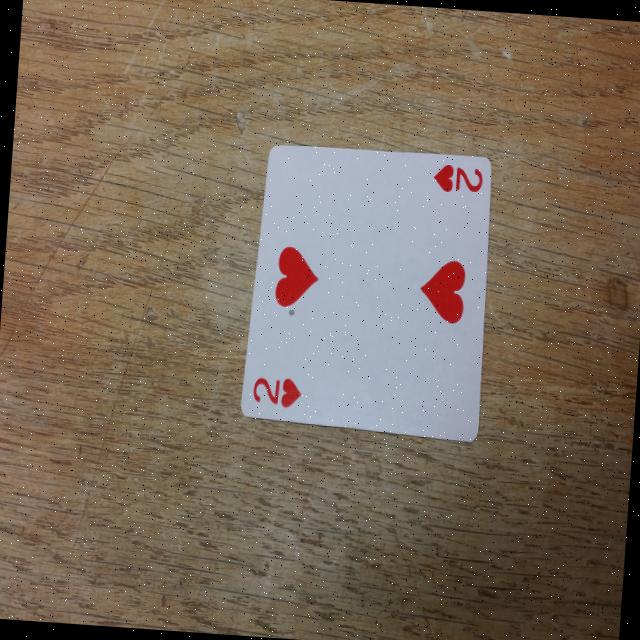2h: (244, 359, 306, 414), (424, 154, 487, 202)
